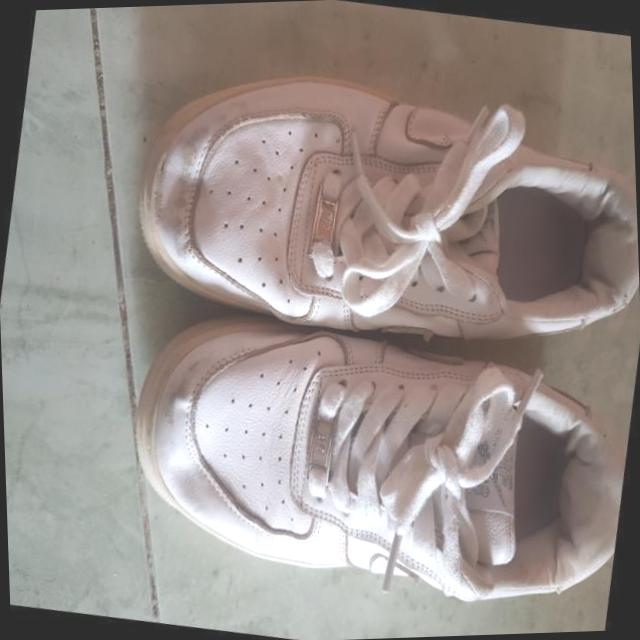nike_fake_airforce: (0, 256, 530, 607), (0, 0, 533, 346)
